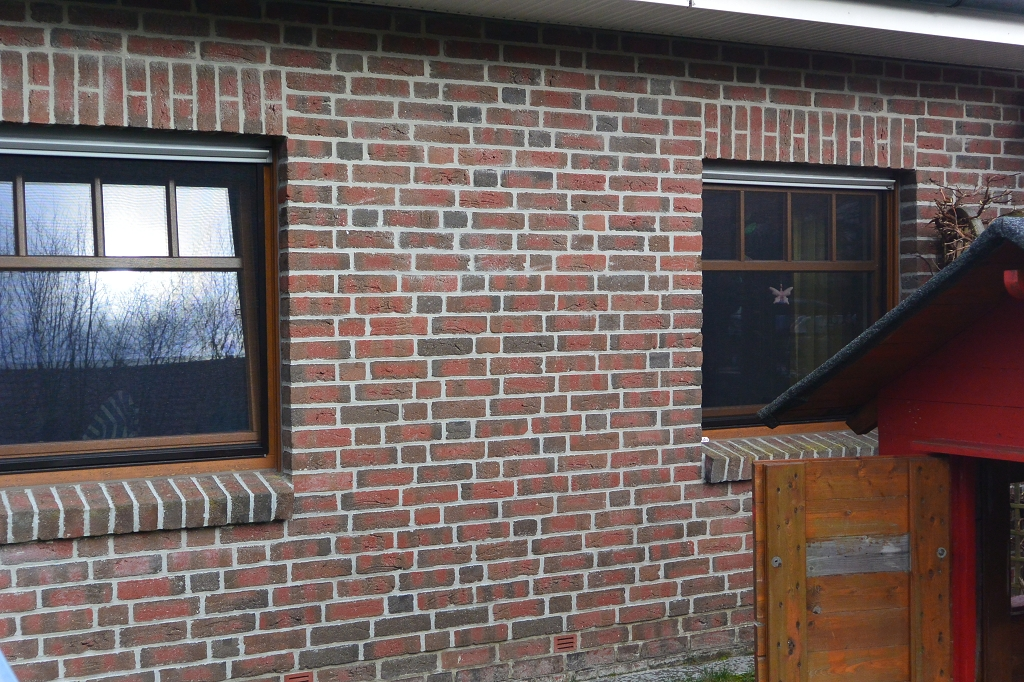windows: (1, 124, 280, 477)
